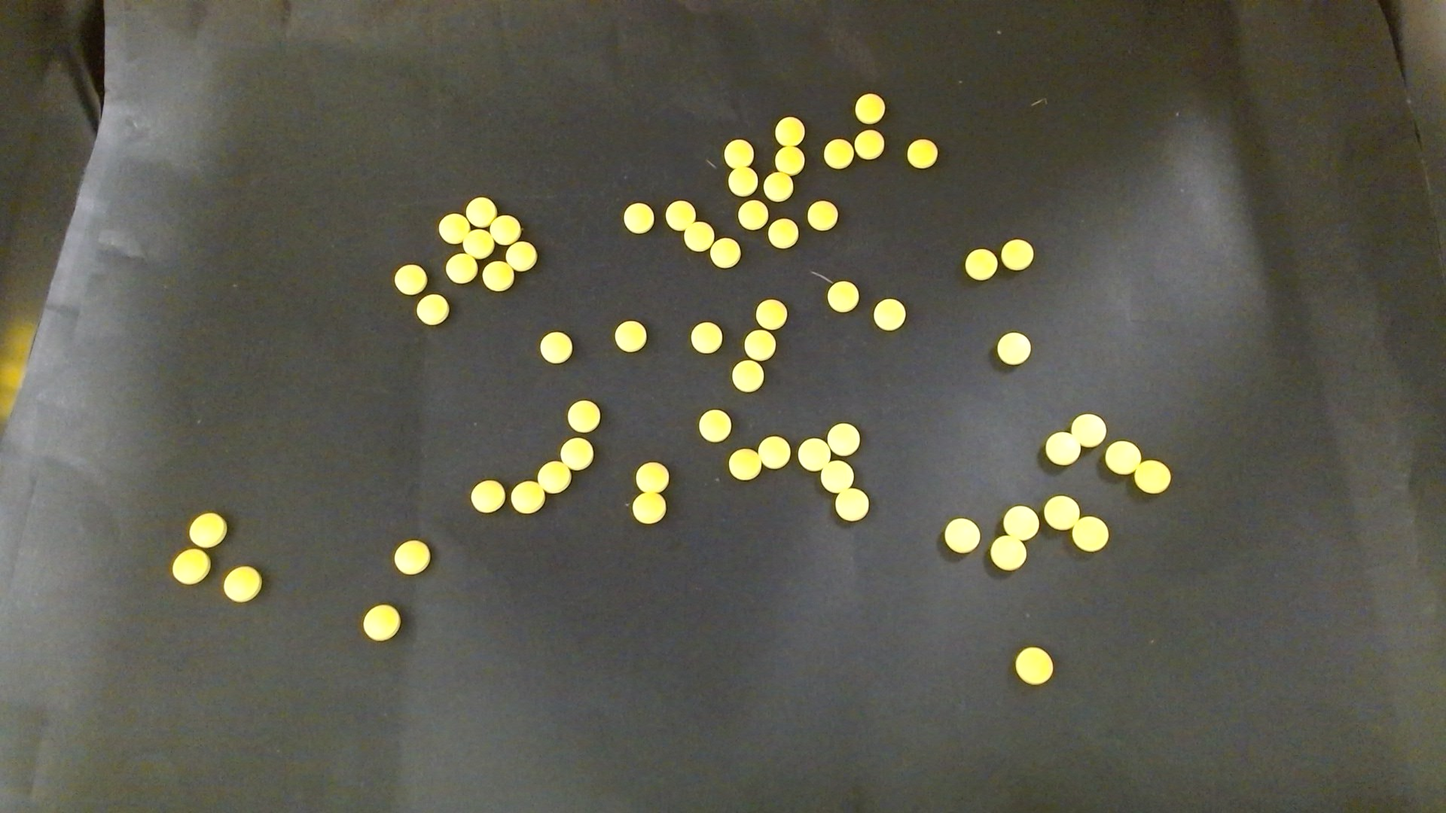Circle: (1013, 645, 1054, 686), (221, 565, 263, 604), (392, 538, 432, 577), (362, 604, 400, 641), (943, 517, 980, 554), (172, 549, 210, 585), (189, 512, 227, 548), (1133, 459, 1172, 494), (1072, 516, 1109, 552), (1003, 505, 1039, 541), (990, 536, 1027, 571), (1106, 440, 1141, 475), (510, 480, 545, 515), (559, 437, 595, 471), (996, 331, 1031, 365), (1045, 431, 1080, 465), (481, 259, 515, 294), (1045, 495, 1079, 529), (537, 460, 571, 494), (834, 488, 869, 521), (470, 480, 505, 513), (445, 252, 479, 285), (1071, 412, 1104, 446), (697, 409, 731, 442), (635, 461, 669, 494), (490, 214, 523, 248), (438, 212, 471, 245), (539, 331, 572, 364), (664, 199, 697, 232), (632, 492, 666, 524), (393, 263, 427, 295), (725, 139, 757, 173), (827, 422, 859, 455), (1001, 238, 1033, 271), (567, 399, 599, 432), (826, 280, 859, 312), (820, 460, 853, 492), (798, 438, 830, 471), (466, 196, 498, 229), (763, 171, 795, 203), (731, 360, 763, 392), (874, 298, 906, 330), (614, 320, 646, 352), (758, 436, 790, 468), (768, 217, 799, 250), (683, 221, 716, 252), (963, 248, 996, 279), (416, 294, 449, 325), (807, 199, 838, 231), (728, 448, 760, 479), (690, 321, 721, 353), (726, 166, 758, 197), (710, 237, 742, 268), (622, 202, 654, 233), (755, 298, 787, 329), (743, 330, 774, 360), (823, 138, 854, 168), (907, 138, 937, 169), (854, 93, 885, 123), (505, 241, 535, 271), (855, 129, 884, 160), (463, 229, 494, 258), (774, 116, 804, 145), (775, 145, 804, 174), (738, 201, 767, 230)
